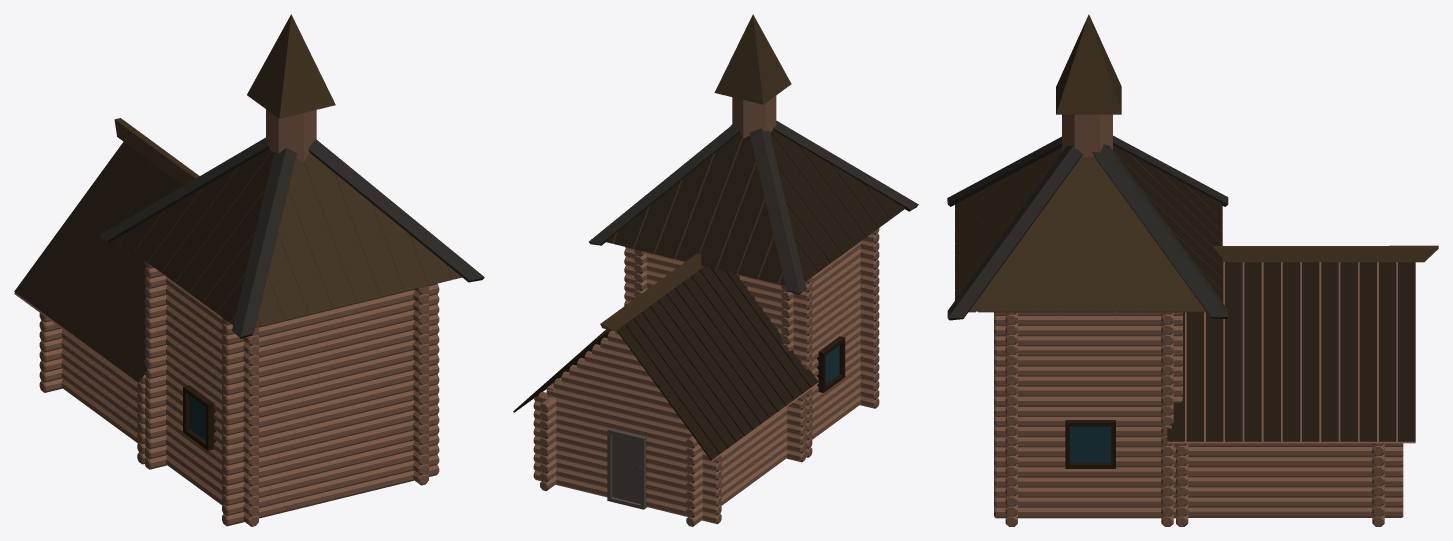
File: House(4).fbx
The picture shows the model from 3 angles, left to right: view 1: azimuth 30°, elevation 25°; view 2: azimuth 150°, elevation 25°; view 3: azimuth 270°, elevation 25°; orthographic projection. The views are drawn at different scales.
Parts seen in each view (by area): view 1: Plane.020; view 2: Plane.020; view 3: Plane.020.
Boxes of the visible parts, left/top/right/bottom form: Plane.020: left=14, top=14, right=484, bottom=526; Plane.020: left=513, top=14, right=918, bottom=526; Plane.020: left=947, top=14, right=1438, bottom=526.
Bounding box in the file's own units: 681 × 1209 × 1168.
